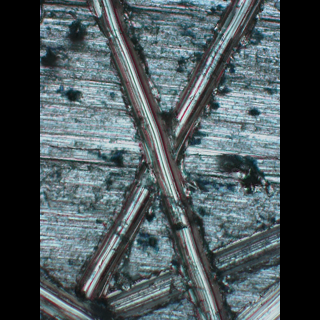d: (81, 0, 274, 319)
